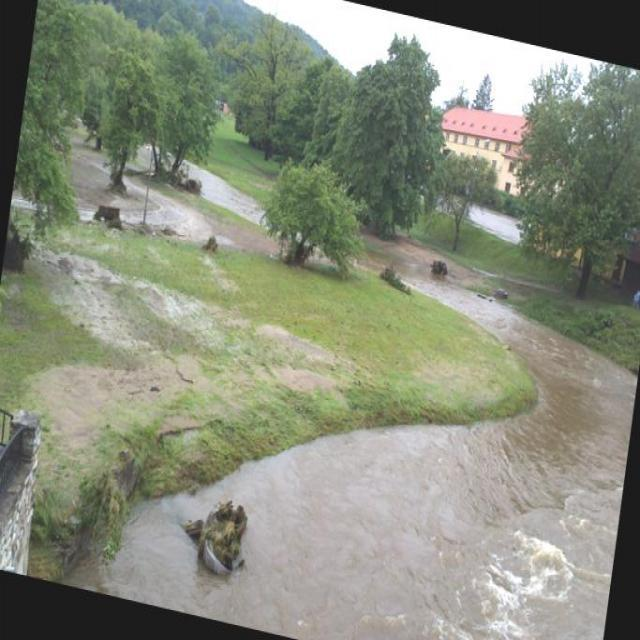flood: (97, 296, 634, 639)
